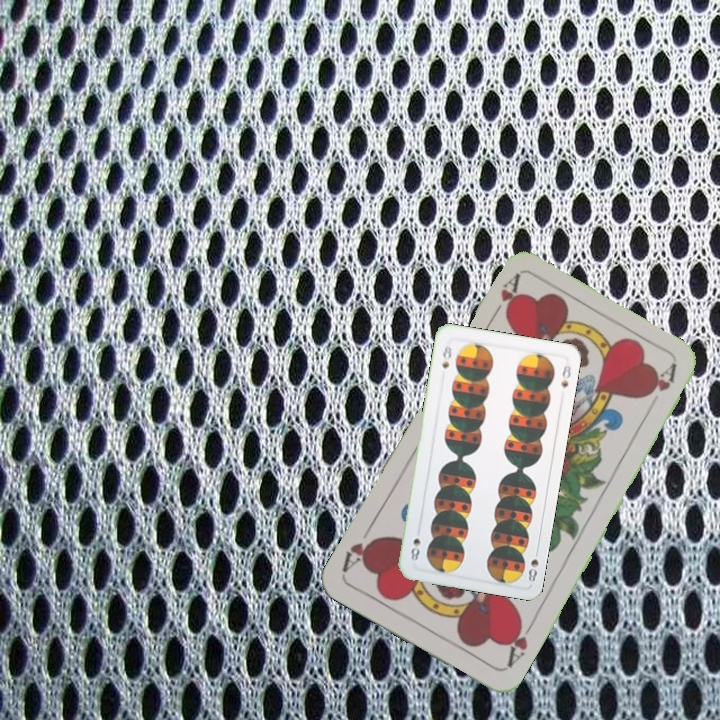HA: (485, 271, 522, 326), (502, 615, 537, 671)
S8: (524, 544, 541, 585), (438, 342, 454, 371)
